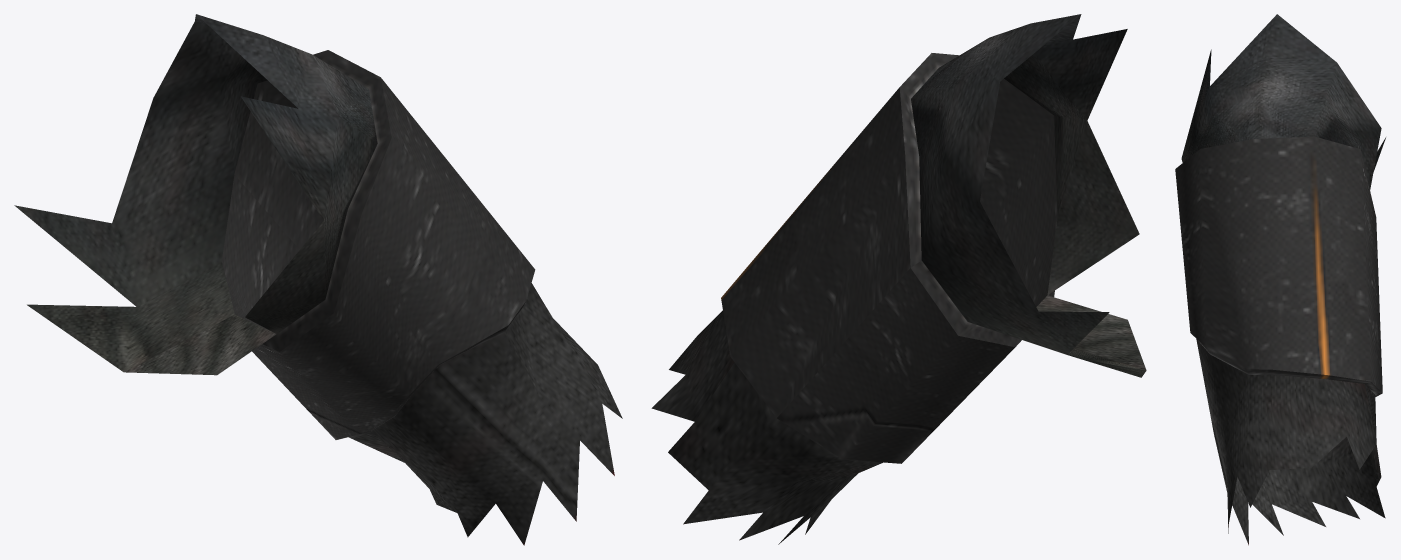
File: gordon_brazo_izq.obj
3 views of the same model, side by side, from view 1: azimuth 30°, elevation 25°; view 2: azimuth 150°, elevation 25°; view 3: azimuth 270°, elevation 25° (orthographic). The views are drawn at different scales.
Parts seen in each view (by area): view 1: gordon_brazo_izq; view 2: gordon_brazo_izq; view 3: gordon_brazo_izq.
Part boxes in pixels (bbox=[...]): gordon_brazo_izq: bbox=[14, 14, 622, 545]; gordon_brazo_izq: bbox=[651, 14, 1146, 544]; gordon_brazo_izq: bbox=[1175, 14, 1385, 545].
Bounding box in the file's own units: 0.2194 × 0.238 × 0.1072.
